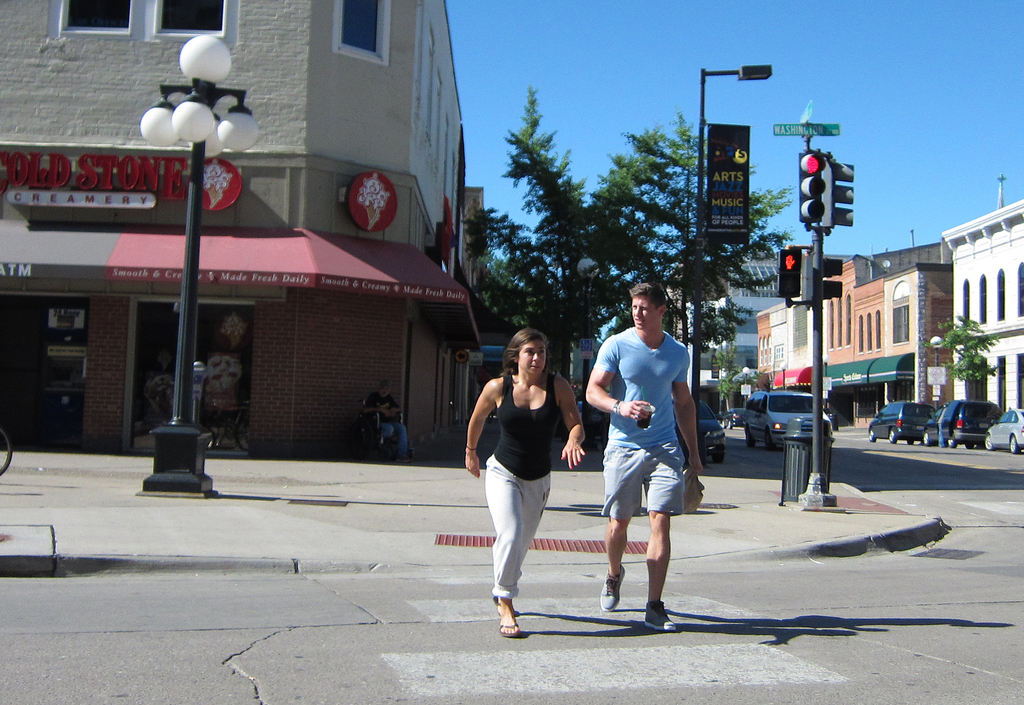red_light: (801, 149, 827, 220)
